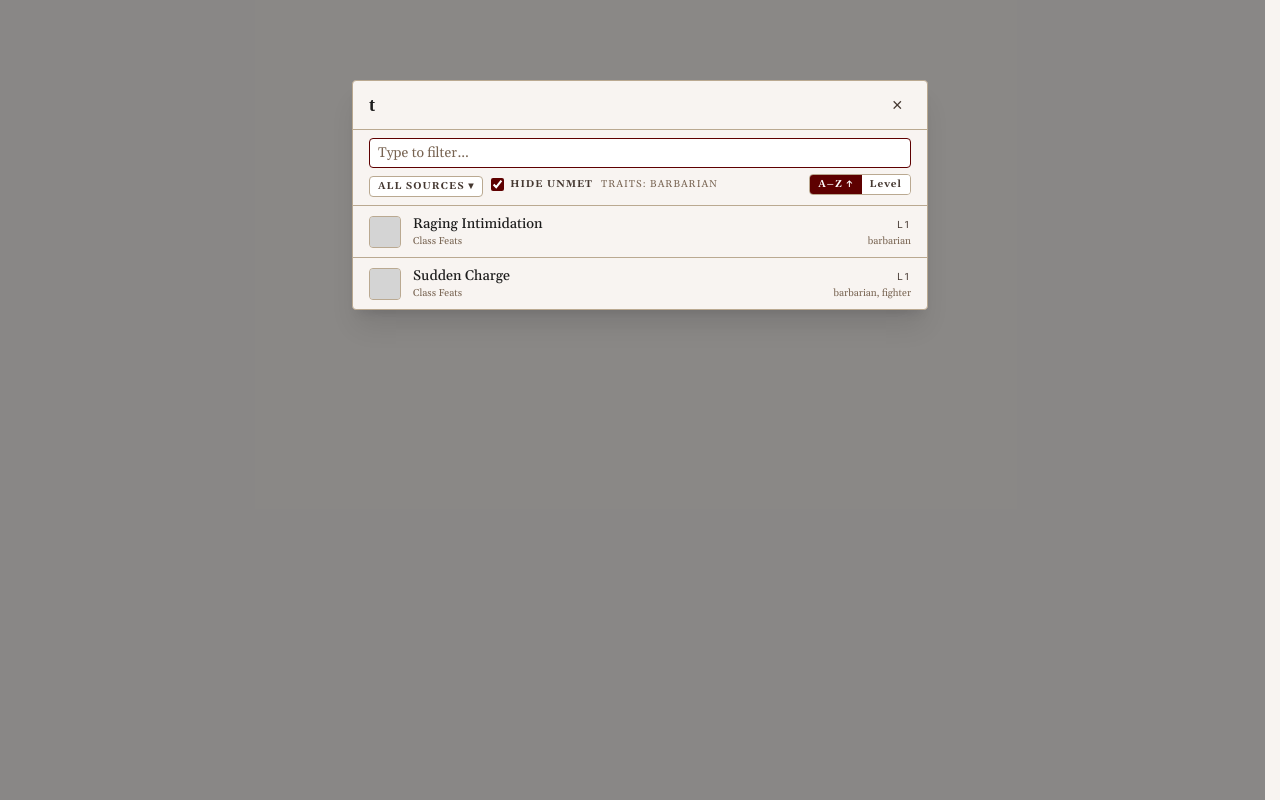
Test case: FeatPicker › reverses direction when the active sort option is clicked again
Check: the button "Raging Intimidation L1 Class Feats barbarian" is shown, box [353,206,927,257]
Click A-Z while already active → flips to desc.
Click the radio button labelled "A–Z ↑" at (836, 184), box [810,175,862,194]
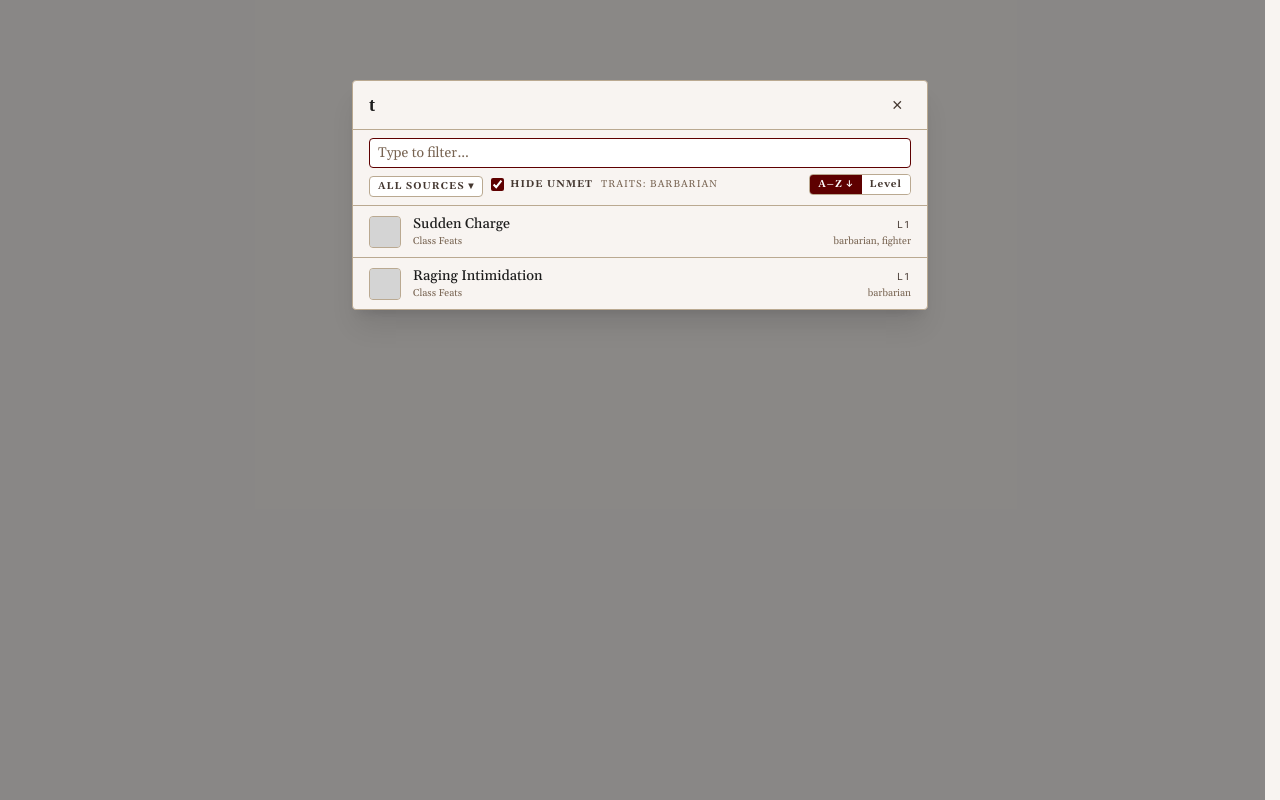
Check: the radio button labelled "A–Z ↓" is shown, box [810,175,862,194]
